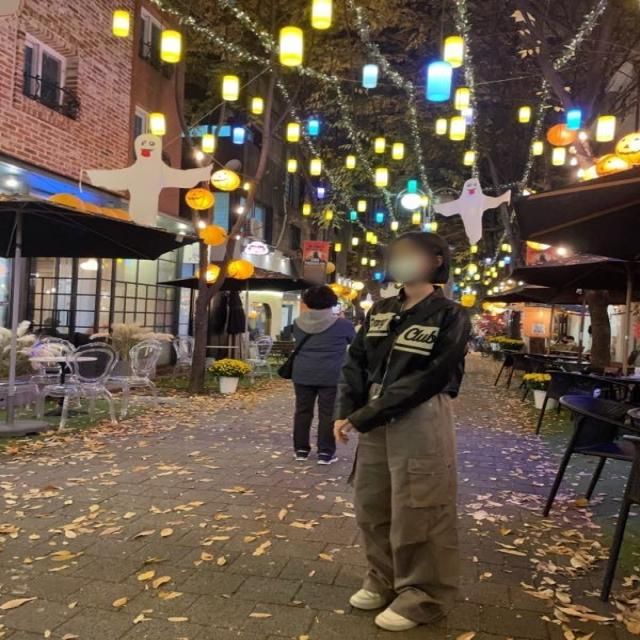cottonpants: (354, 380, 466, 624)
jacket: (338, 287, 466, 433)
